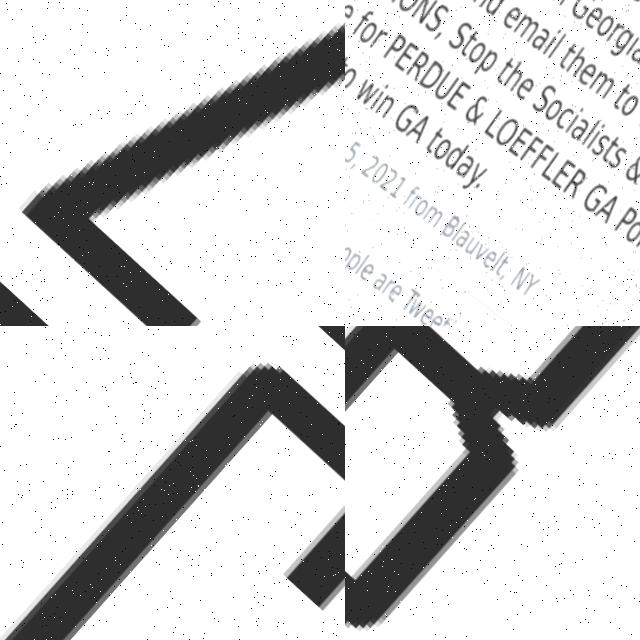0: (365, 155, 393, 187)
1: (385, 169, 412, 199)
2: (356, 147, 385, 179), (376, 162, 402, 192)
5: (345, 135, 364, 165)
B: (345, 326, 640, 631)
C: (0, 326, 345, 640)
Z: (12, 0, 345, 326)
